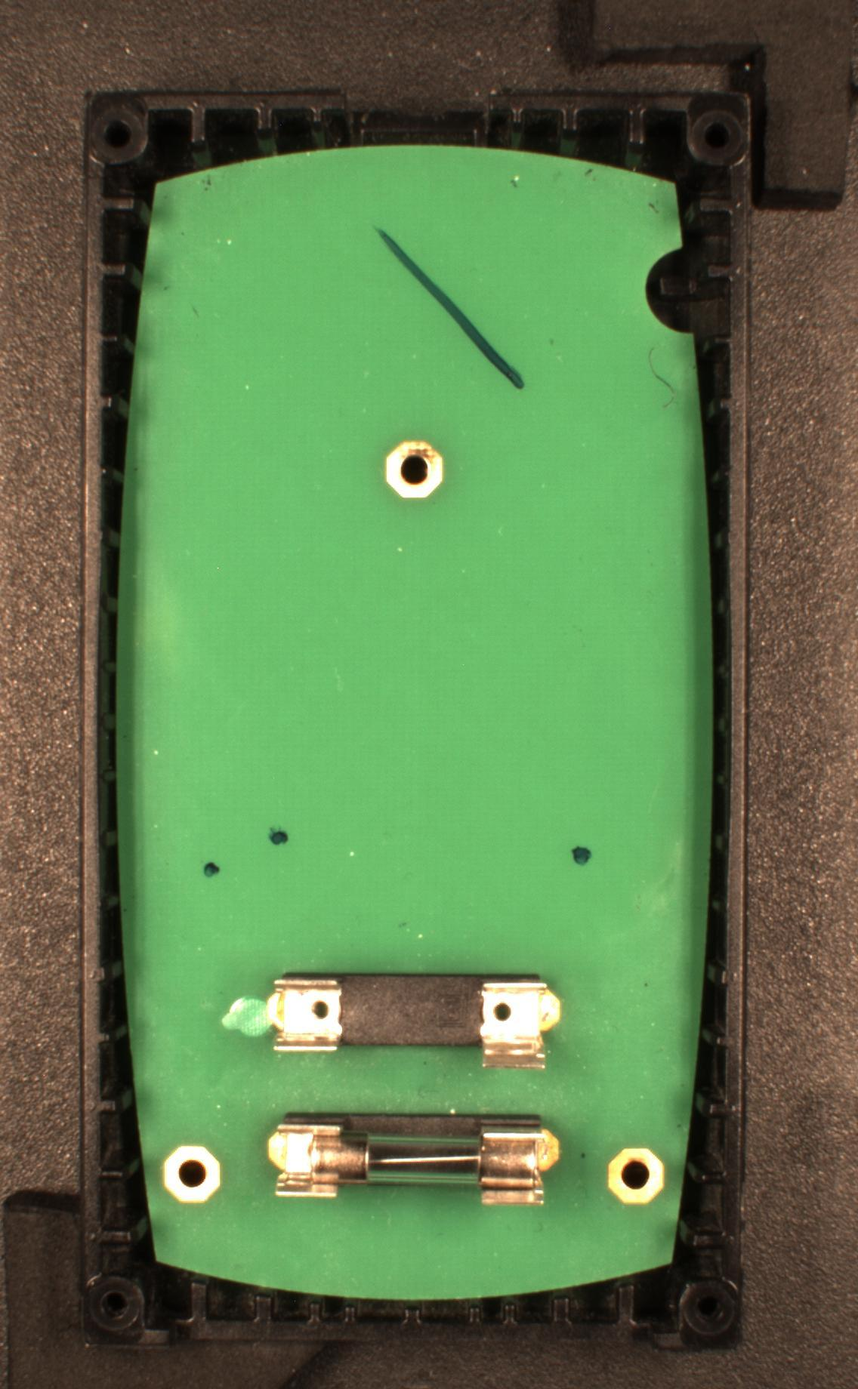Linijsko Ostecene: (369, 222, 529, 395)
Nepostojanje osiguraca: (265, 968, 563, 1073)
Tockasto Ostecenje: (569, 843, 597, 870), (268, 825, 294, 847), (199, 858, 223, 879)
